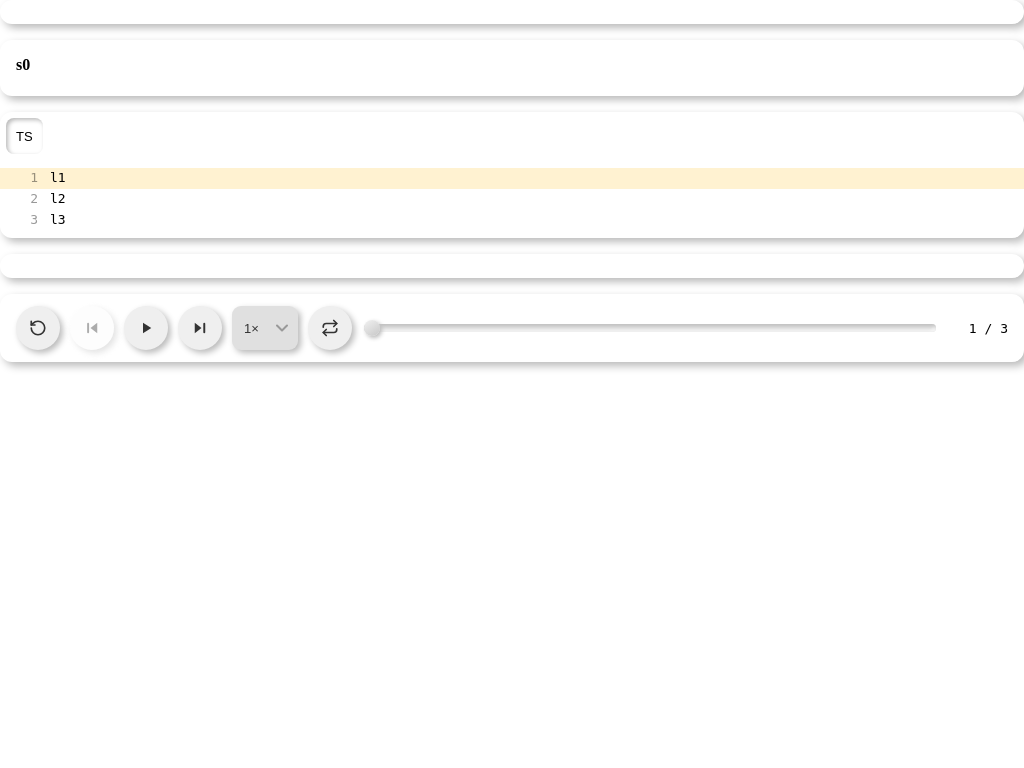
Test: AlgorithmPlayer › 测验模式（C-112） › TC-PLAYER-QUIZ-03 答对 + 继续 → 续播；回拖同步不再出题
The width and height of the screenshot is (1024, 768).
What coordinates should you click on to do the following:
click the button named "播放"
I would click on:
 (146, 328)
Its box is 124,306 -> 168,350.
Wait 800 ms
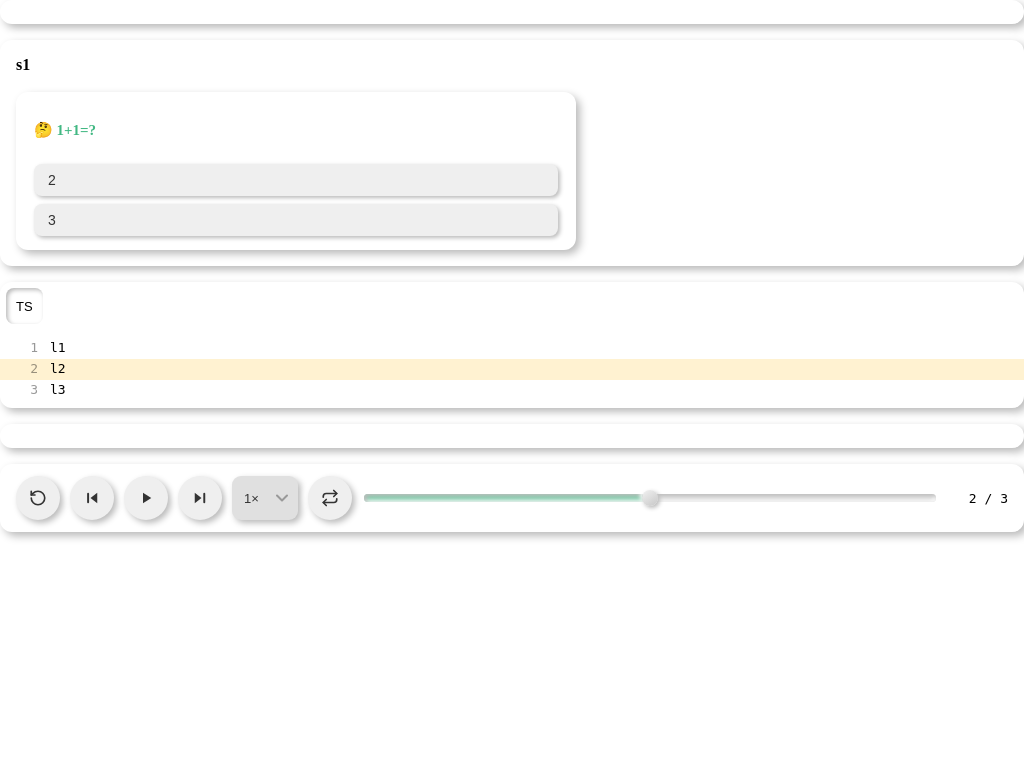
What coordinates should you click on to do the following:
click the button "2"
I would click on:
 (52, 180)
Its box is 34,164 -> 558,196.
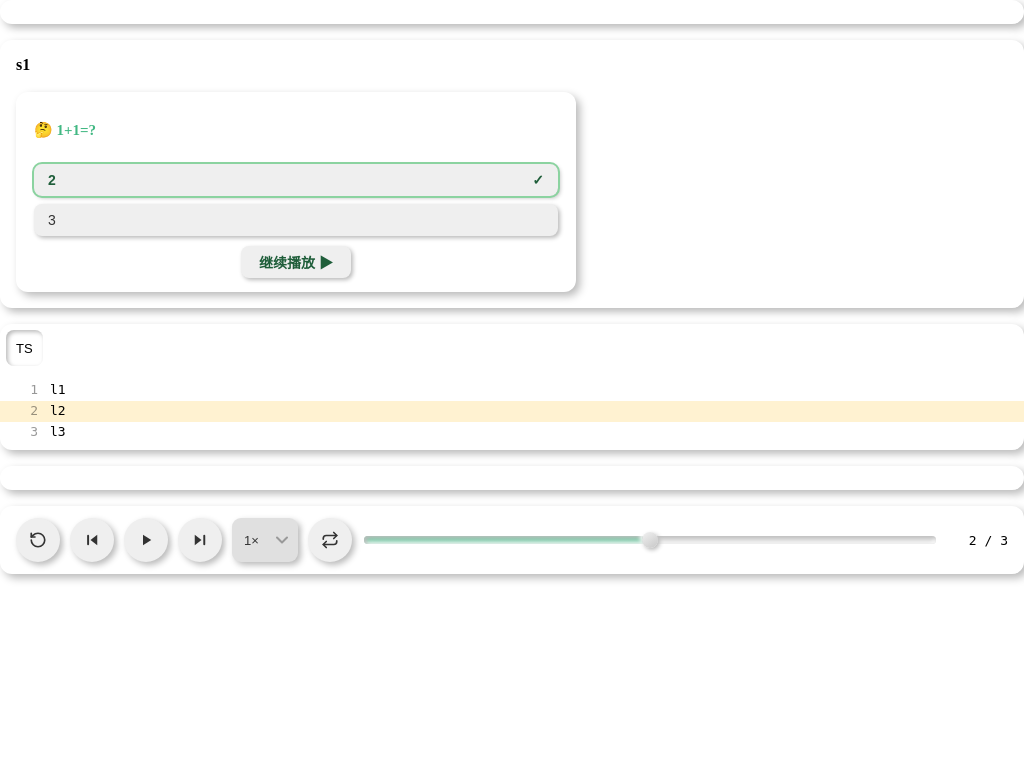
What coordinates should you click on to do the following:
click the button "继续播放 ▶"
I would click on:
 (296, 262)
Its box is 241,246 -> 351,278.
Wait 800 ms
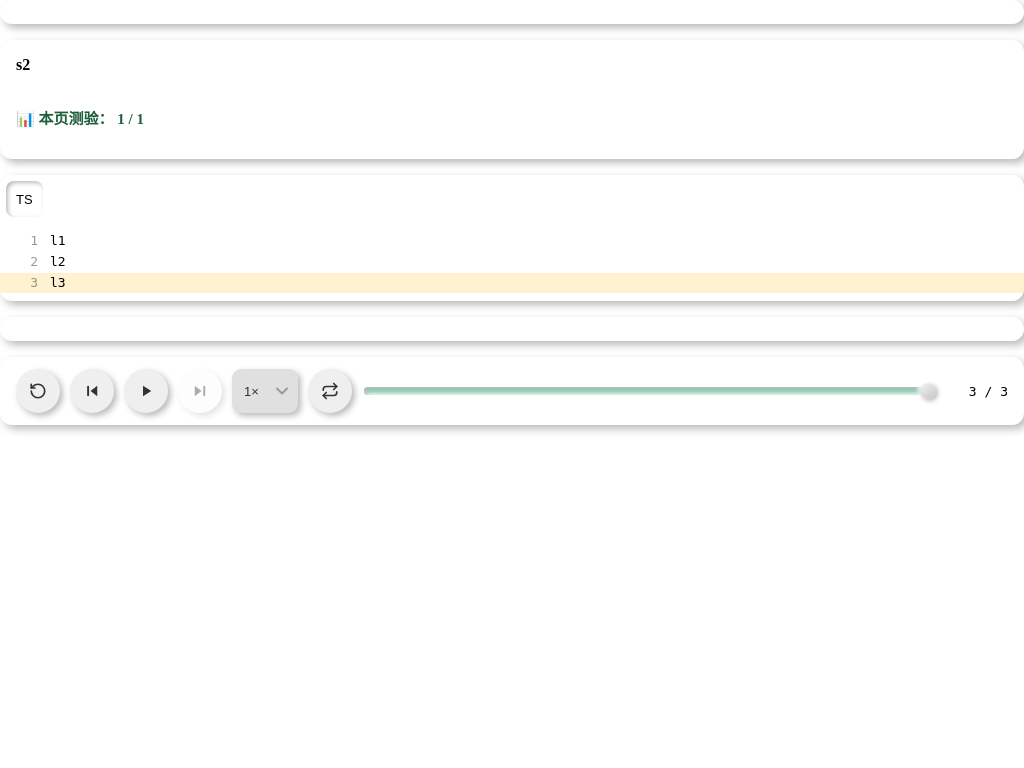
Expected: the text with class "counter" reads "3 / 3", 969,384 -> 1008,399
# 回拖到 quiz 步：已答，不再出卡
What coordinates should you click on to do the following:
click the button titled "上一步"
I would click on:
 (92, 391)
Its box is 70,369 -> 114,413.
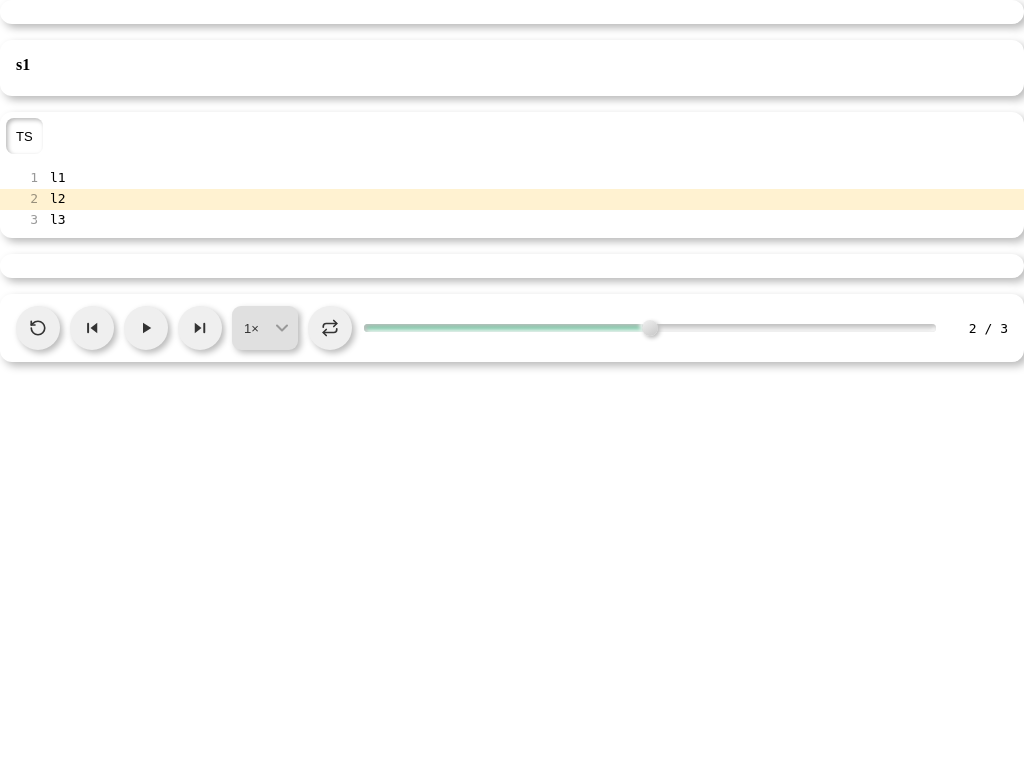
Expected: the text with class "counter" reads "2 / 3", 969,321 -> 1008,336
